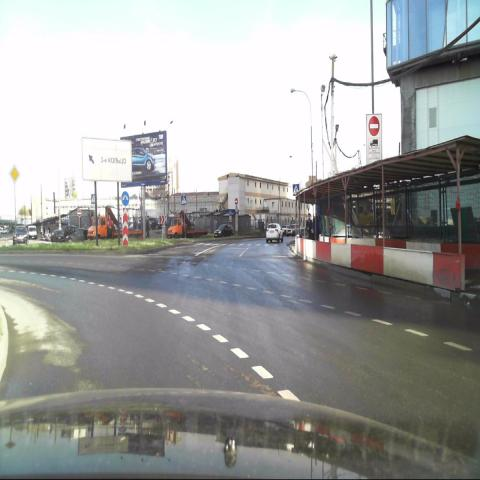4_2_3: (121, 191, 129, 206)
5_19_1: (292, 183, 300, 196), (181, 194, 188, 206)
